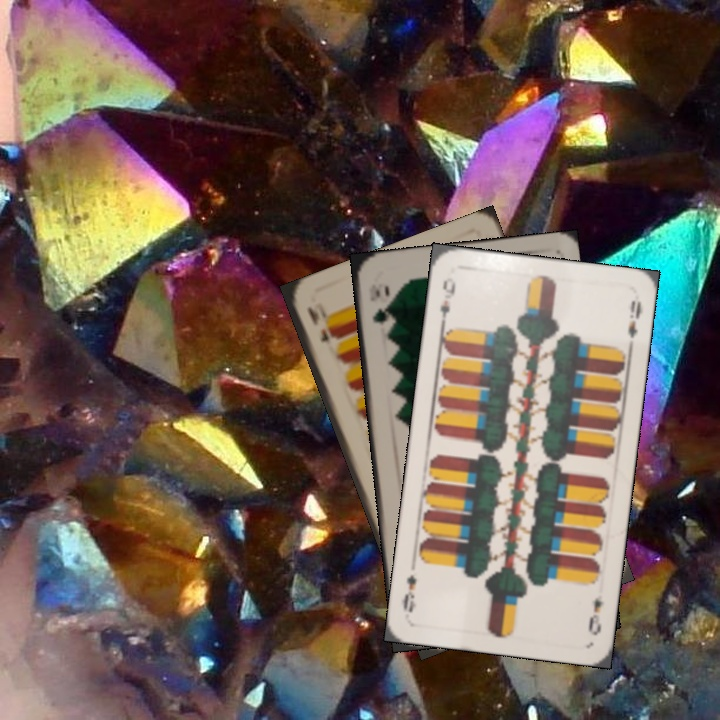E10: (303, 302, 335, 347)
E9: (435, 273, 458, 329), (584, 591, 606, 638)
G10: (369, 285, 391, 326)
